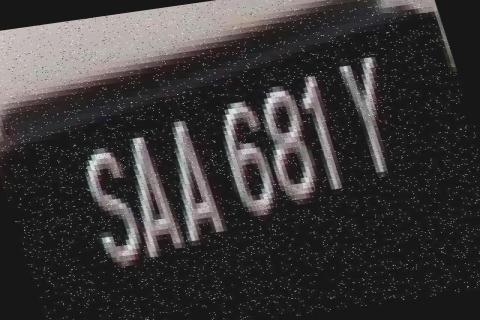LicensePlate: (23, 45, 441, 287)
